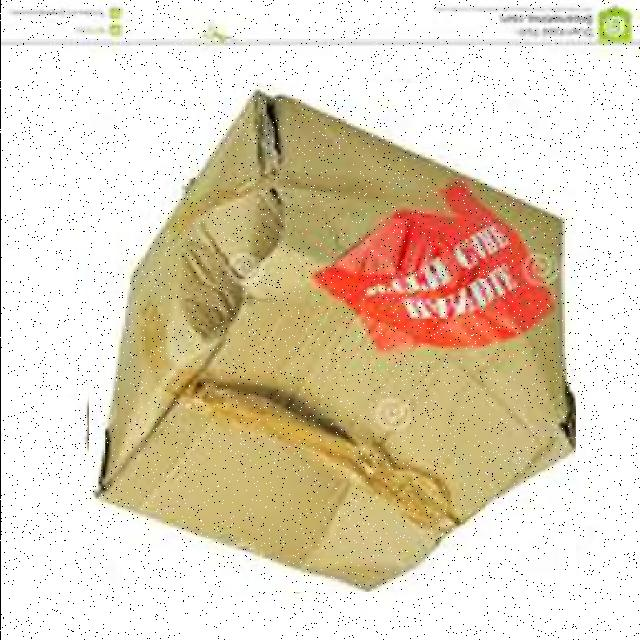defect: (88, 83, 575, 592)
